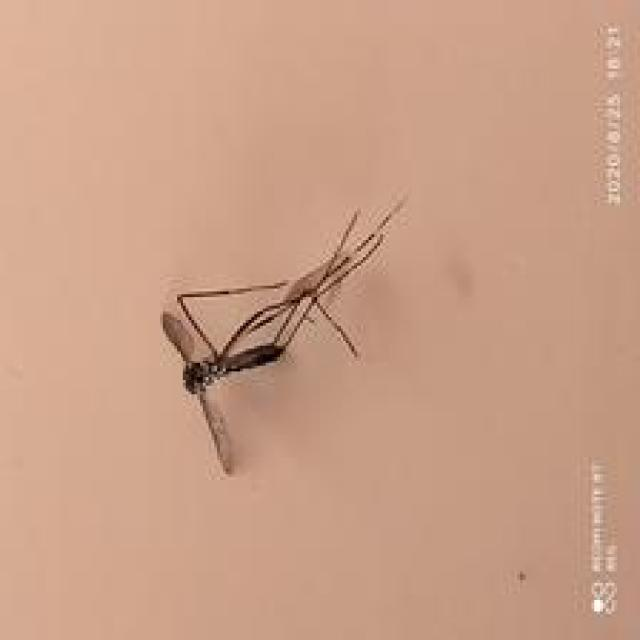Aedes albopictus: (160, 192, 409, 474)
